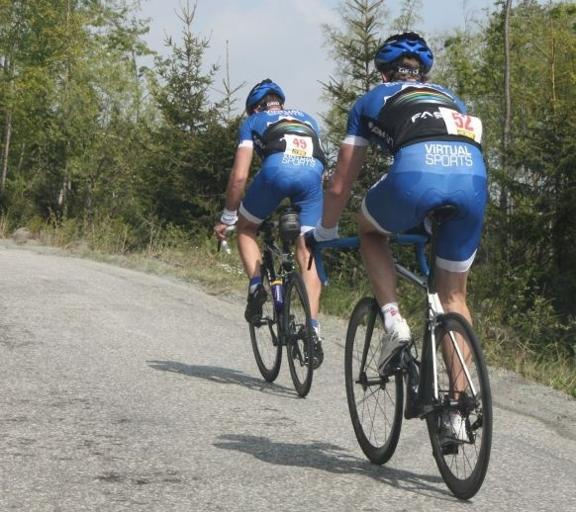non-vehicle: (300, 198, 504, 501), (213, 202, 315, 401)
